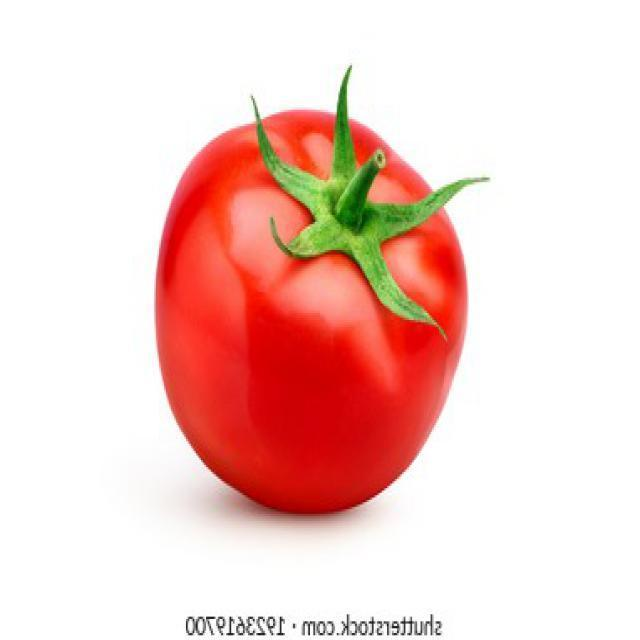Tomato: (152, 70, 487, 518)
